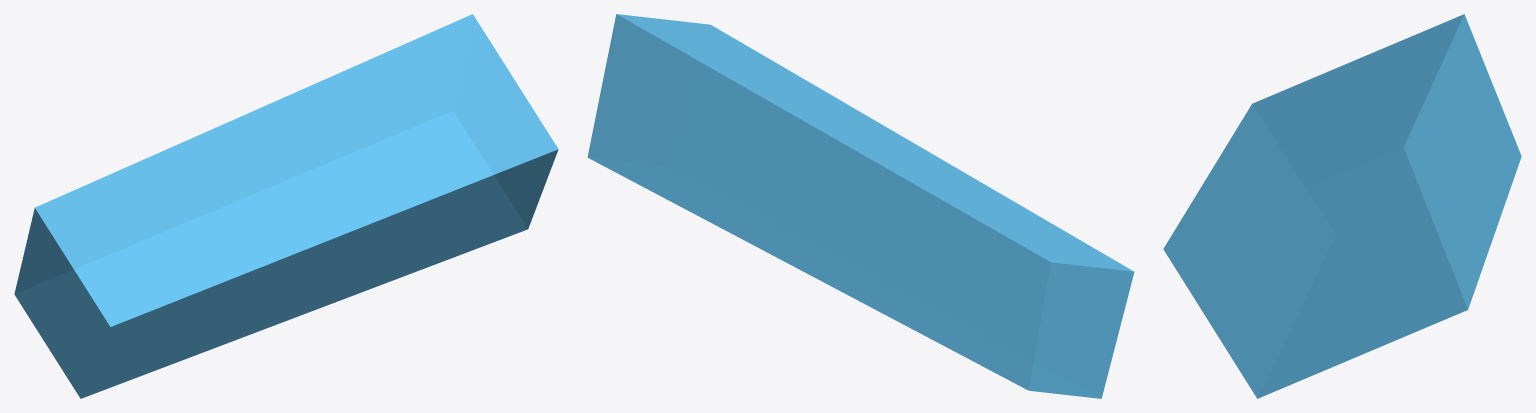
The model's file is Event_421364160_HErechit_22.fbx.
3 views of the same model, side by side, from view 1: azimuth 30°, elevation 25°; view 2: azimuth 150°, elevation 25°; view 3: azimuth 270°, elevation 25° (orthographic). The views are drawn at different scales.
Parts seen in each view (by area): view 1: Model; view 2: Model; view 3: Model.
Part boxes in pixels (<box>): Model: <box>14,14,558,398</box>; Model: <box>587,14,1134,398</box>; Model: <box>1163,14,1521,398</box>.
Bounding box in the file's own units: 1.36 × 0.8199 × 0.7152.
